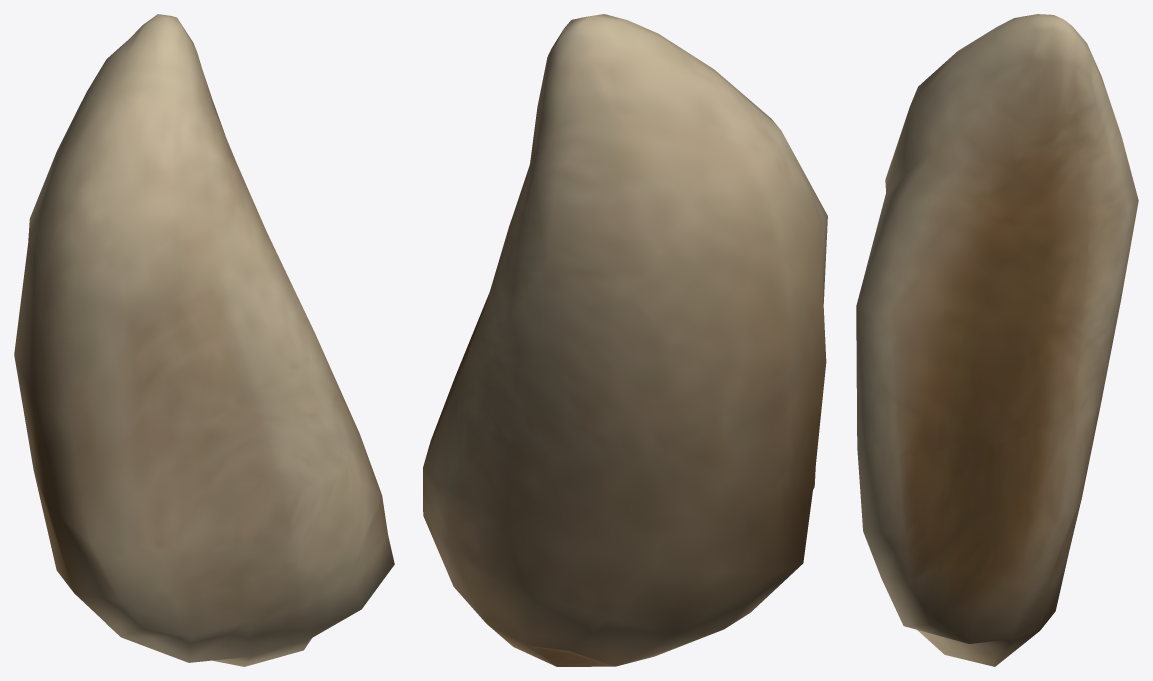
The model's file is Upper_Incisor3.glb.
The picture shows the model from 3 angles, left to right: view 1: azimuth 30°, elevation 25°; view 2: azimuth 150°, elevation 25°; view 3: azimuth 270°, elevation 25°; orthographic projection. The views are drawn at different scales.
Parts seen in each view (by area): view 1: Upper_Incisor2; view 2: Upper_Incisor2; view 3: Upper_Incisor2.
Part boxes in pixels (box(x1,y1,x2,y2)): Upper_Incisor2: box(14, 14, 394, 666); Upper_Incisor2: box(423, 14, 827, 666); Upper_Incisor2: box(856, 14, 1138, 666).
Size of the model in its own units: 0.0168 by 0.0288 by 0.0122.
Materials: 1 (1 with a texture image).
